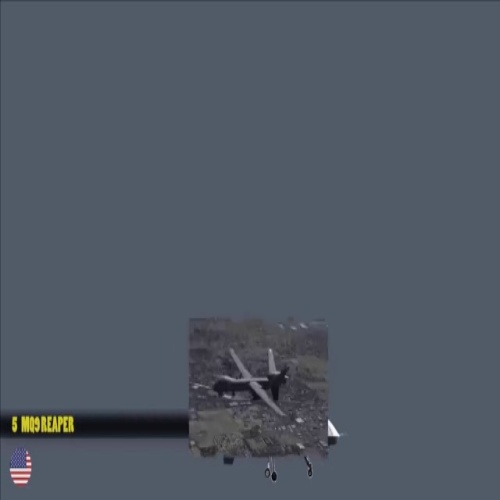uav847: (207, 342, 294, 419)
